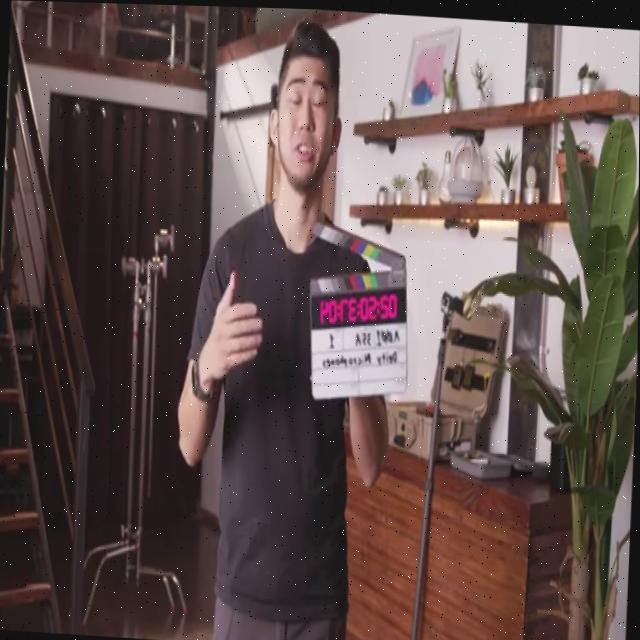Clapperboard: (309, 220, 409, 400)
